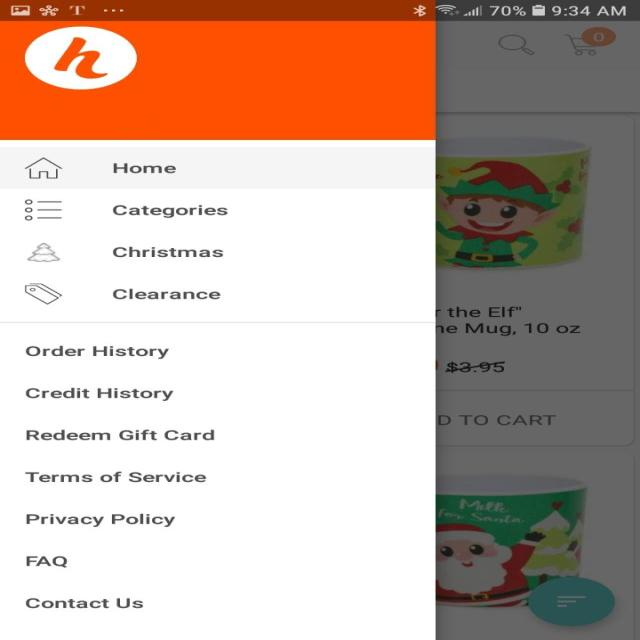Drawer: (0, 21, 436, 639)
Icon: (24, 282, 63, 304), (24, 198, 62, 220), (25, 157, 63, 179)
Image: (24, 26, 138, 90), (26, 242, 60, 262)
Text: (24, 386, 174, 401), (25, 513, 175, 527), (26, 429, 214, 440), (24, 345, 169, 359), (24, 471, 206, 482), (112, 204, 228, 218), (112, 245, 223, 258), (25, 597, 144, 609), (112, 288, 220, 300), (113, 163, 176, 173), (26, 555, 68, 567)
